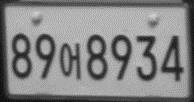3: (135, 34, 158, 81)
4: (160, 34, 184, 82)
8: (85, 33, 108, 80), (10, 31, 32, 80)
9: (110, 34, 133, 81), (35, 33, 56, 79)
어: (59, 41, 82, 82)
